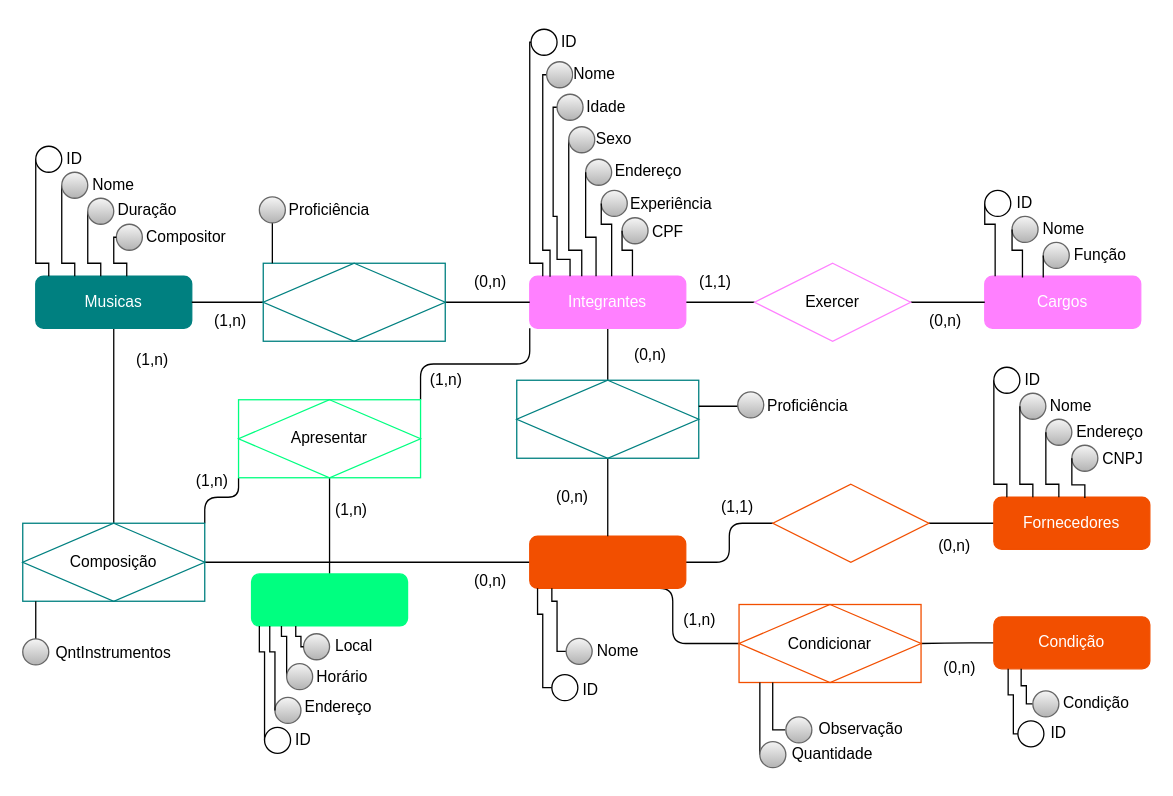
The diagram is 1173 pixels wide and 796 high, and some of its shapes have lost their labels. The shapes that lost their labels are listed below. From the top down, each one's centre as x and y in pixels, then its label:
At (x=353, y=301): "Saber".
At (x=607, y=418): "Tocar".
At (x=850, y=522): "Distribuir".
At (x=607, y=561): "Instrumentos".
At (x=329, y=599): "Apresentações".
